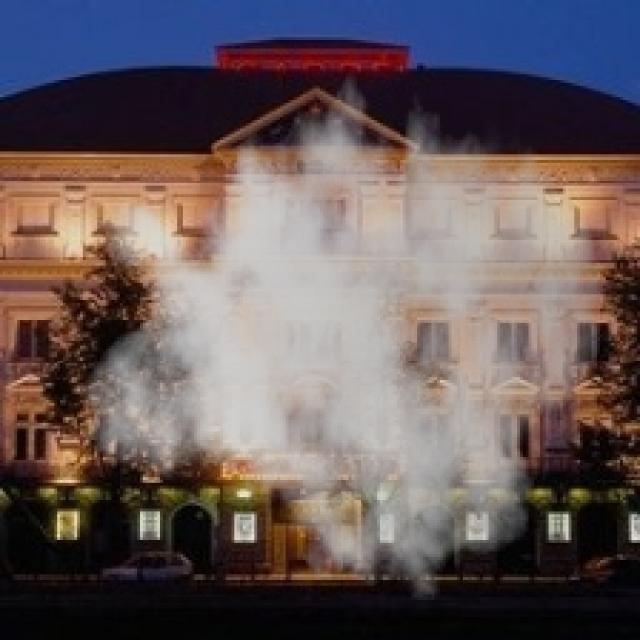smoke: (80, 49, 603, 614)
